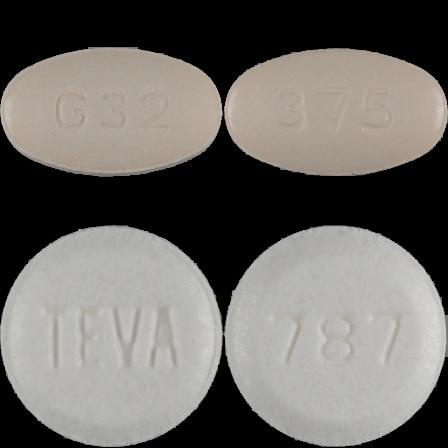63187-535: (0, 0, 224, 224)
